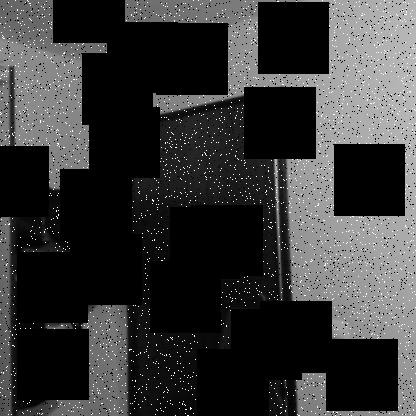Porte: (121, 85, 301, 415)
